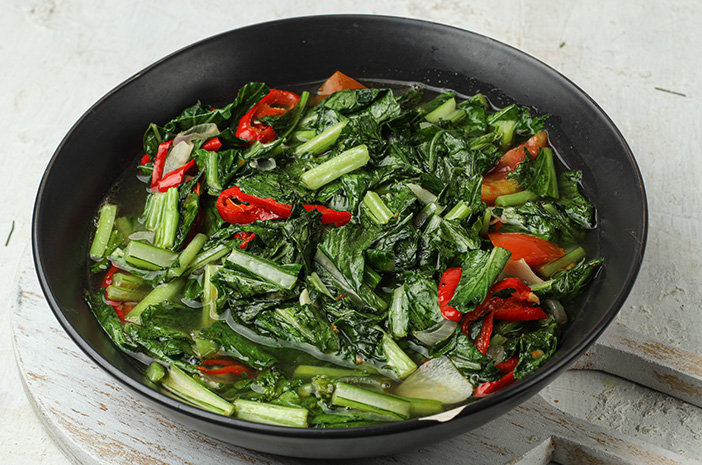buah_sayur_lainnya: (149, 123, 527, 389)
